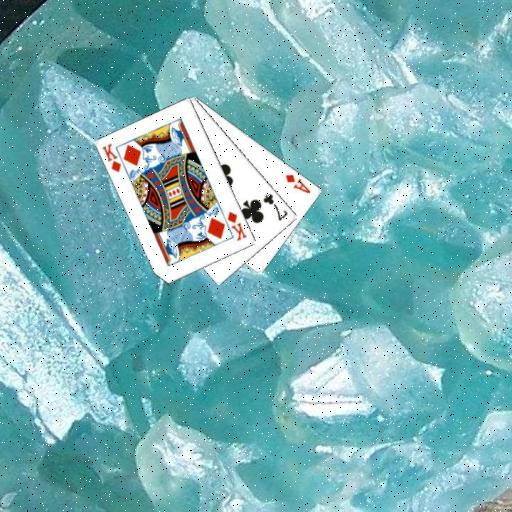7C: (261, 190, 290, 222)
AD: (282, 171, 312, 196)
KD: (224, 209, 248, 243), (99, 140, 123, 174)
